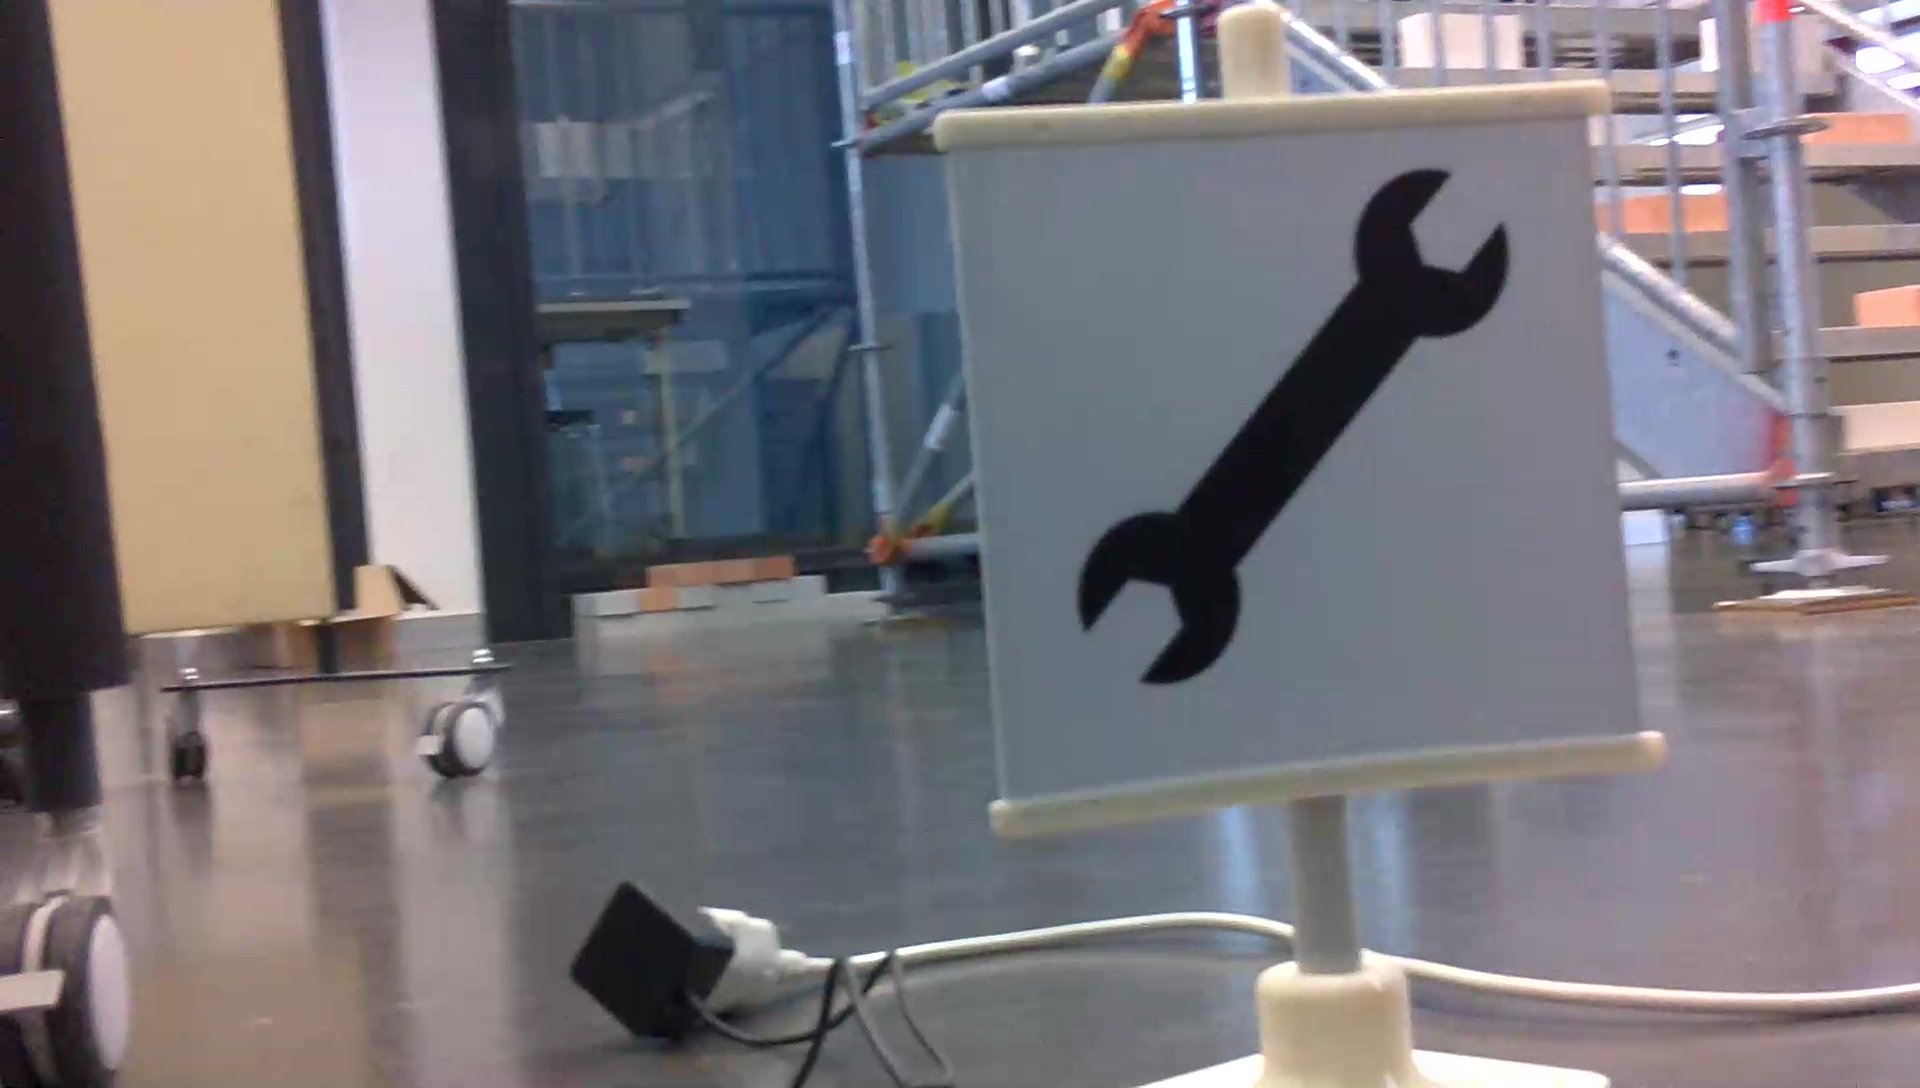brick: (1841, 404, 1917, 447), (1822, 112, 1905, 146), (1855, 285, 1920, 326)
wrench: (1065, 158, 1519, 695)
